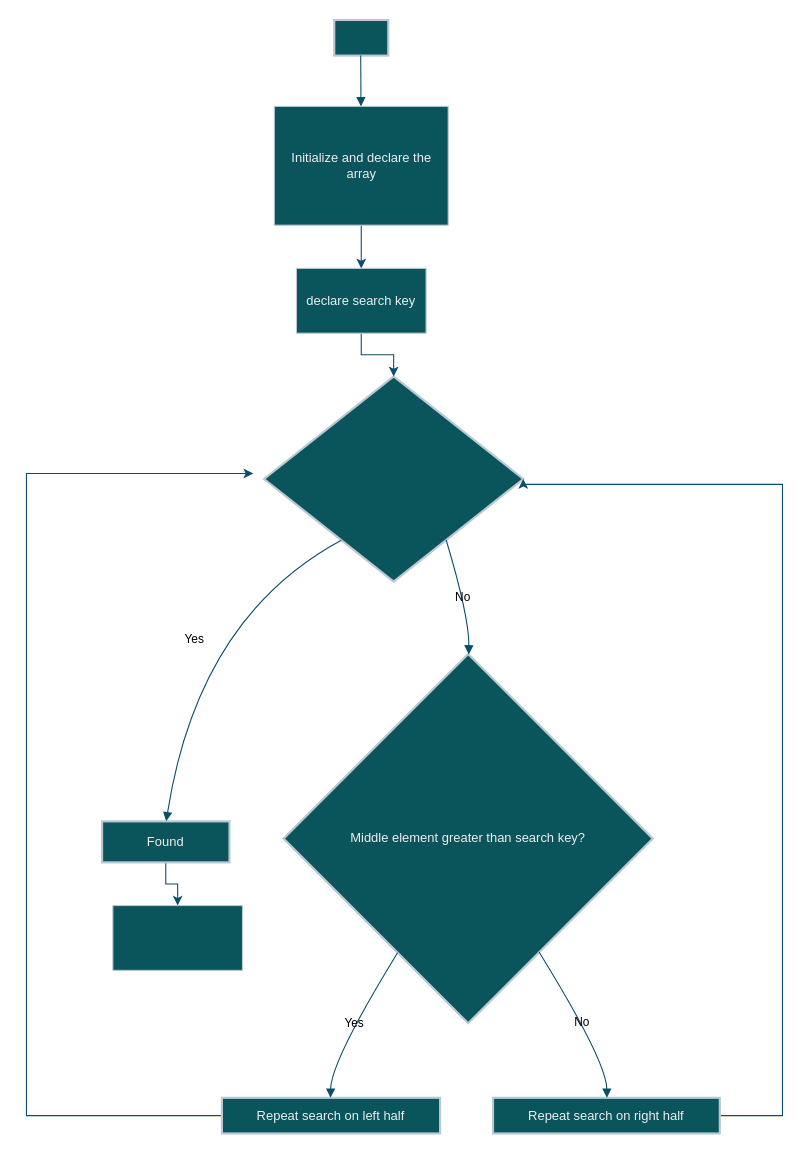
Some shapes in this 810 by 1152 pixel diagram are drawn without their labels. Each missing label, with the centre of its shape:
"END" belongs at [177,937].
"Middle element equals search key?" belongs at [393,478].
"Start" belongs at [361,37].
